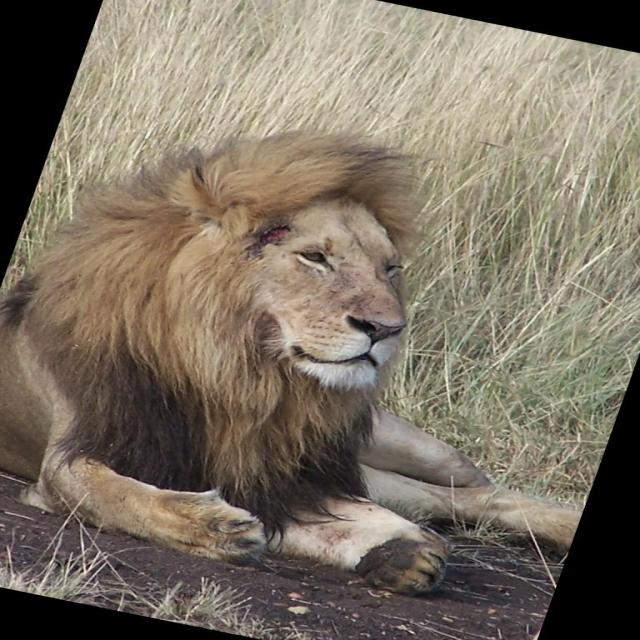Lion: (0, 72, 639, 626)
